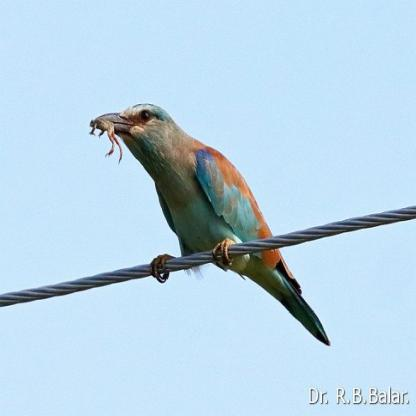Burung: (88, 103, 331, 348)
